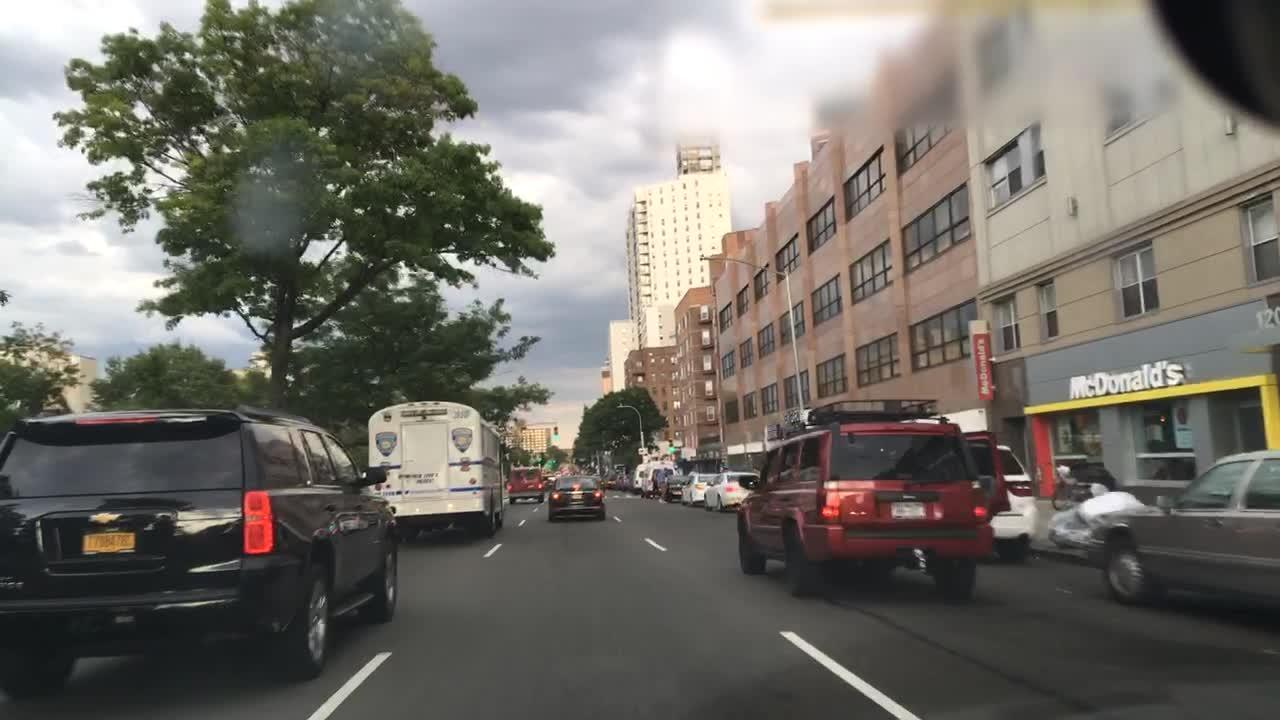chevrolet: (69, 497, 142, 529)
